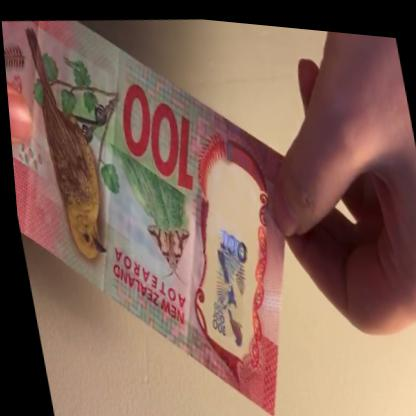100B: (187, 206, 262, 354)
